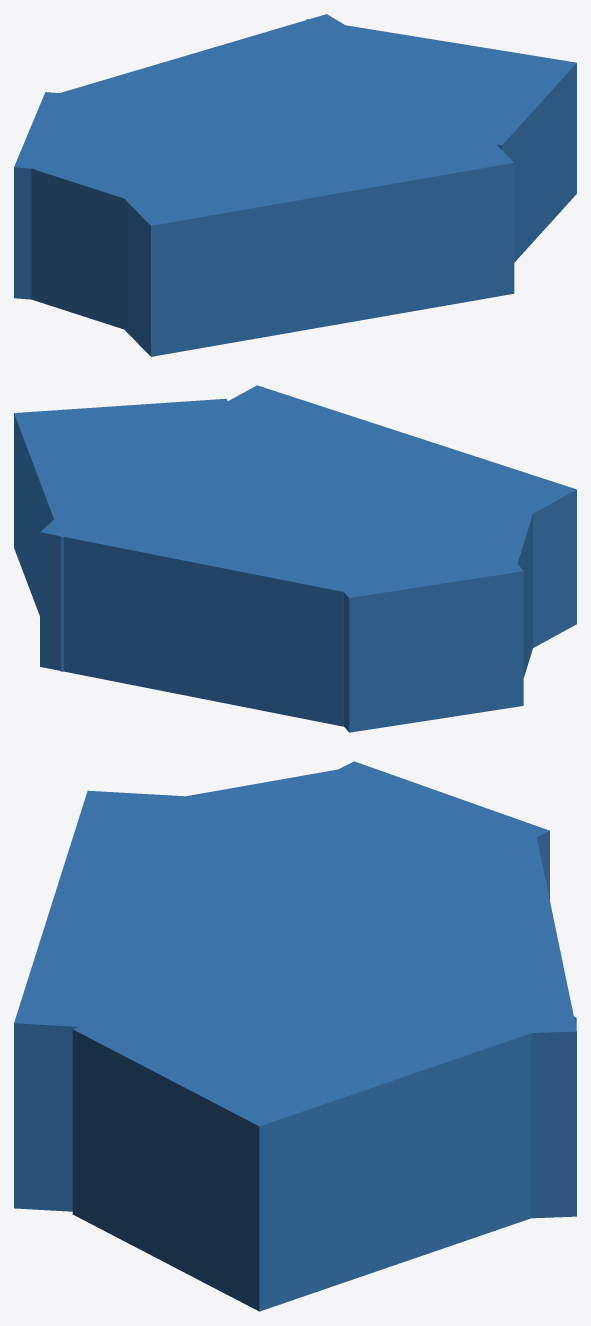
Rendered from p_PuddleI.fbx.
The picture shows the model from 3 angles, top to bottom: view 1: azimuth 30°, elevation 25°; view 2: azimuth 150°, elevation 25°; view 3: azimuth 270°, elevation 25°; orthographic projection. The views are drawn at different scales.
Parts seen in each view (by area): view 1: Water__8_, Water__10_, Water__9_, Water__12_, Water__13_; view 2: Water__8_, Water__12_, Water__10_, Water__13_, Water__9_; view 3: Water__10_, Water__8_, Water__12_, Water__9_, Water__13_.
Part boxes in pixels (x1,y1,x2,y2): Water__8_: [42, 50, 514, 356]; Water__10_: [241, 19, 576, 262]; Water__9_: [31, 72, 231, 329]; Water__12_: [60, 14, 391, 106]; Water__13_: [14, 92, 89, 299]; Water__8_: [80, 385, 576, 647]; Water__12_: [40, 506, 378, 726]; Water__10_: [14, 398, 265, 671]; Water__13_: [329, 560, 523, 732]; Water__9_: [223, 486, 536, 677]; Water__10_: [72, 952, 576, 1311]; Water__8_: [14, 790, 489, 1211]; Water__12_: [374, 838, 576, 1218]; Water__9_: [153, 769, 496, 960]; Water__13_: [303, 761, 549, 899].
Size of the model in its own units: 211 by 50 by 138.
